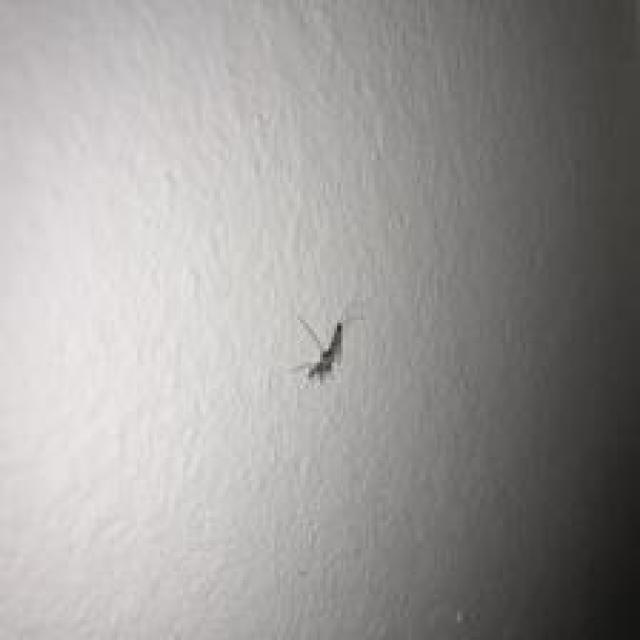Culex: (294, 314, 346, 383)
